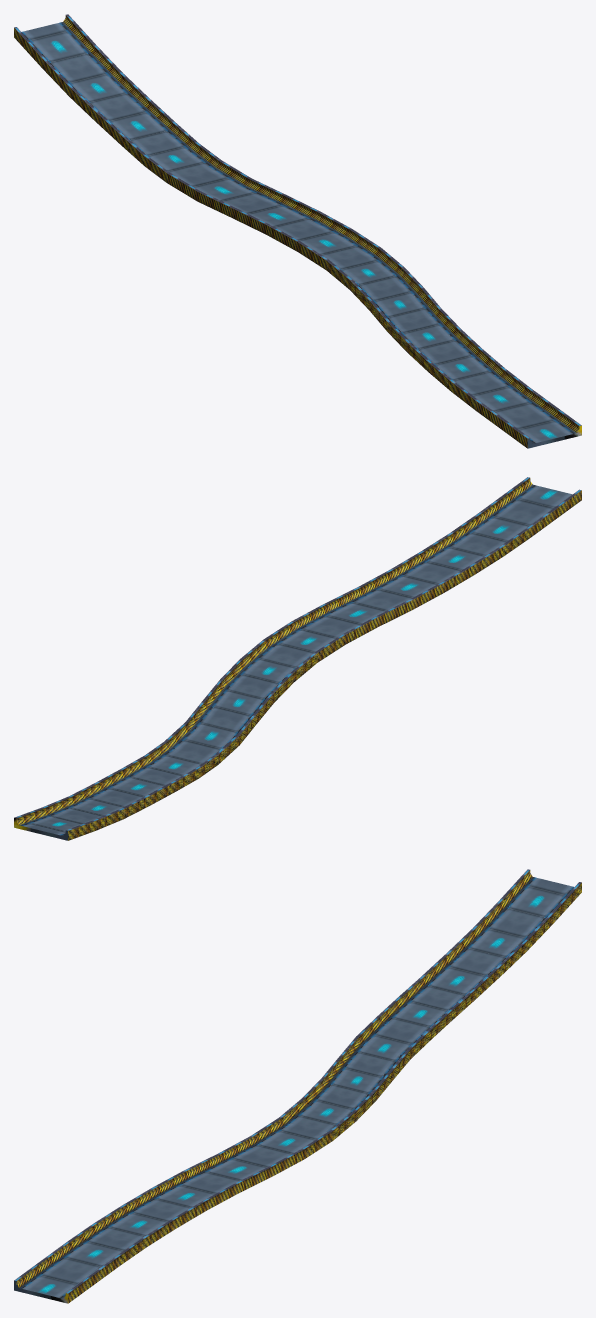
3 renders of one model, top to bottom at view 1: azimuth 30°, elevation 25°; view 2: azimuth 150°, elevation 25°; view 3: azimuth 330°, elevation 25°, orthographic.
Parts seen in each view (by area): view 1: ramp 1; view 2: ramp 1; view 3: ramp 1.
Boxes of the visible parts, left/top/right/bottom form: ramp 1: left=14, top=14, right=581, bottom=448; ramp 1: left=14, top=477, right=581, bottom=840; ramp 1: left=14, top=869, right=581, bottom=1303.
Size of the model in its own units: 28.52 by 14.48 by 295.
